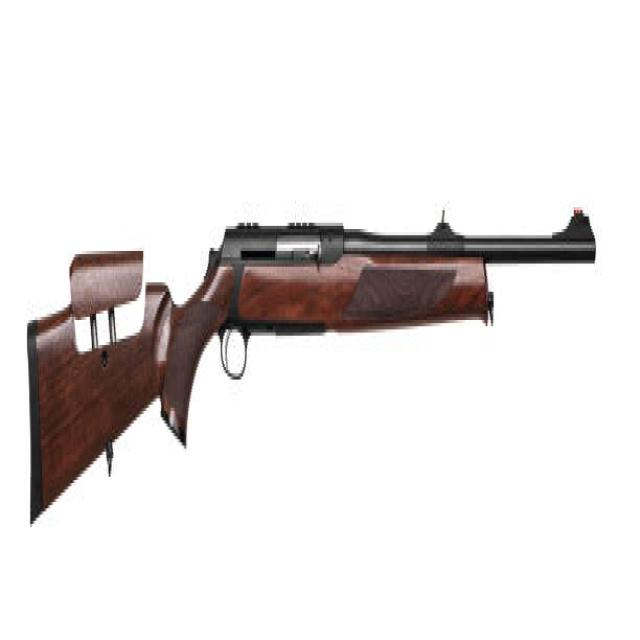rifle: (21, 172, 602, 560)
